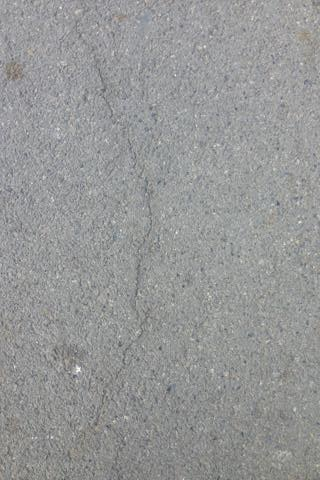A: (73, 26, 150, 450)
